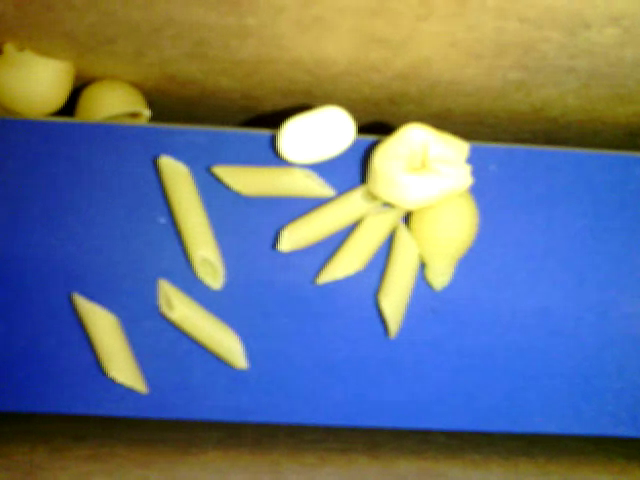penne: (156, 152, 225, 290), (155, 278, 247, 370), (72, 292, 147, 392), (277, 185, 383, 253), (315, 208, 409, 283), (375, 220, 419, 340), (210, 163, 335, 197)
shell: (410, 190, 478, 291), (1, 42, 76, 114), (76, 79, 150, 124)
tortellini: (368, 121, 473, 210)
